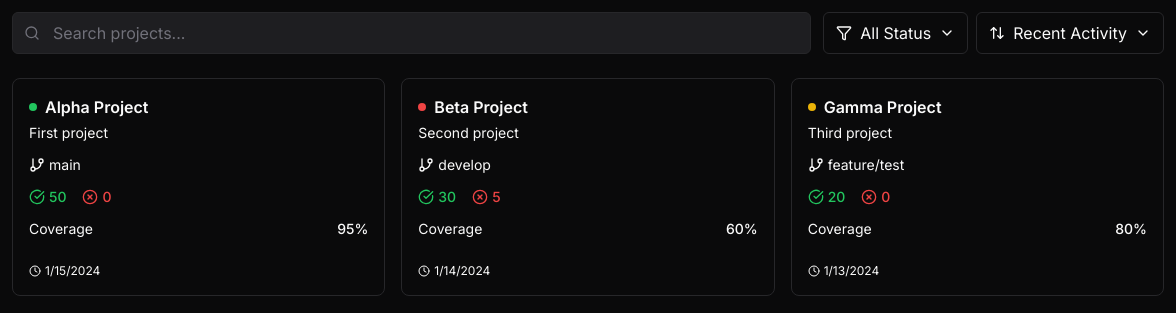
ProjectGrid › filters projects by description
The image size is (1176, 313).
Type "Second" into the field with placeholder "Search projects...". click: (412, 33)
box: [12,12,811,54]
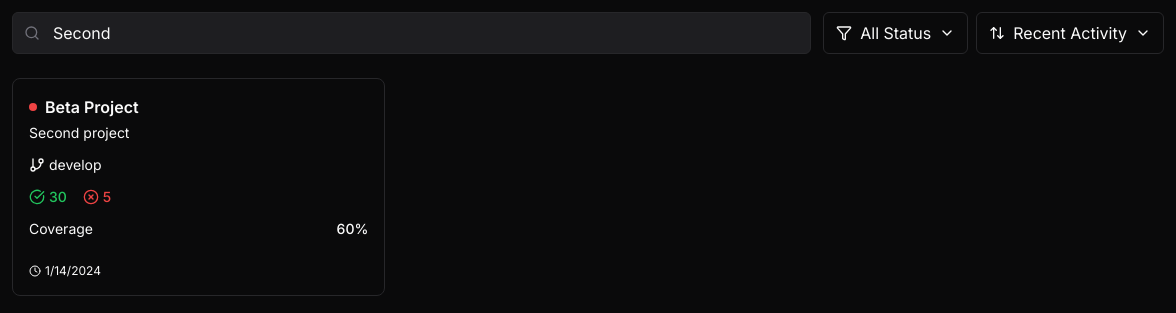
Expected: the heading "Beta Project" is shown, [45,95,139,119]
Expected: the link "Alpha Project" is gone
